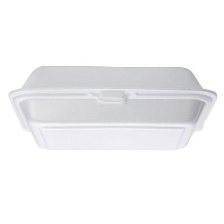foam_box: (5, 60, 220, 157)
